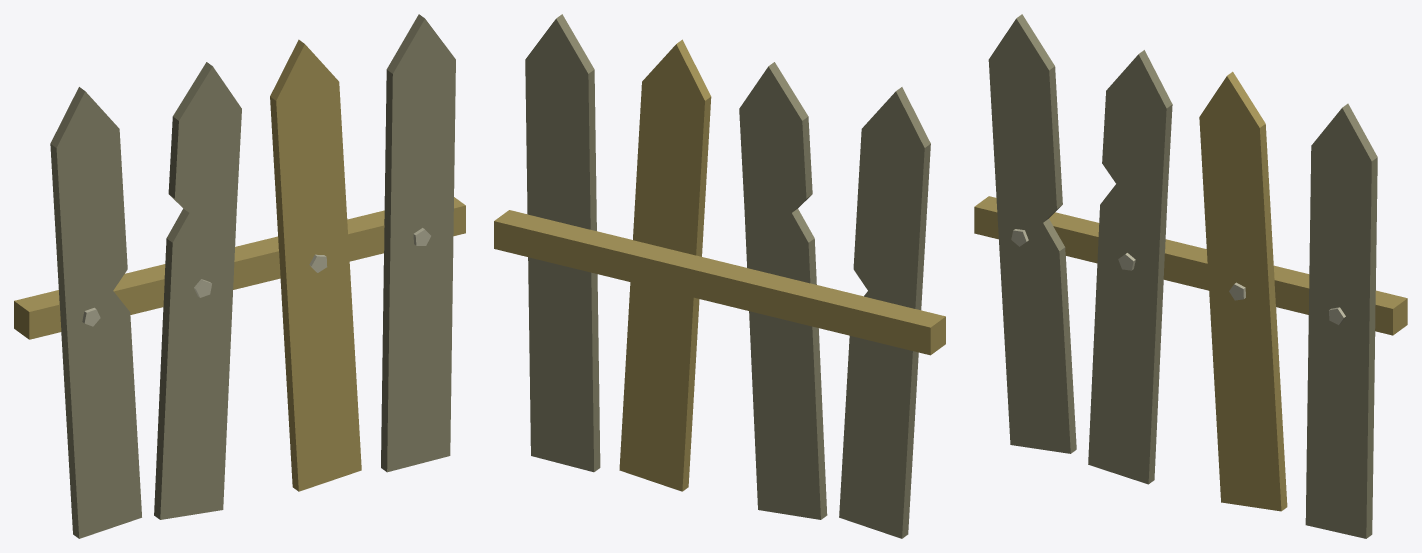
The model's file is fence_2.fbx.
3 renders of one model, left to right at view 1: azimuth 30°, elevation 25°; view 2: azimuth 150°, elevation 25°; view 3: azimuth 330°, elevation 25°, orthographic. The views are drawn at different scales.
Visible parts, largest first — view 1: fence_2; view 2: fence_2; view 3: fence_2.
Boxes of the visible parts, x1,y1,x2,y2 form: fence_2: (14, 14, 465, 538); fence_2: (494, 14, 945, 538); fence_2: (974, 14, 1407, 538).
Bounding box in the file's own units: 199 × 198 × 18.66.
